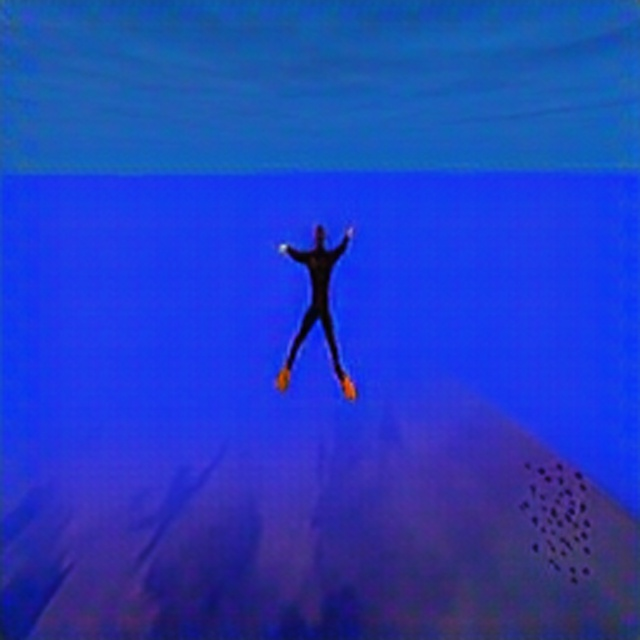diver: (273, 219, 359, 402)
